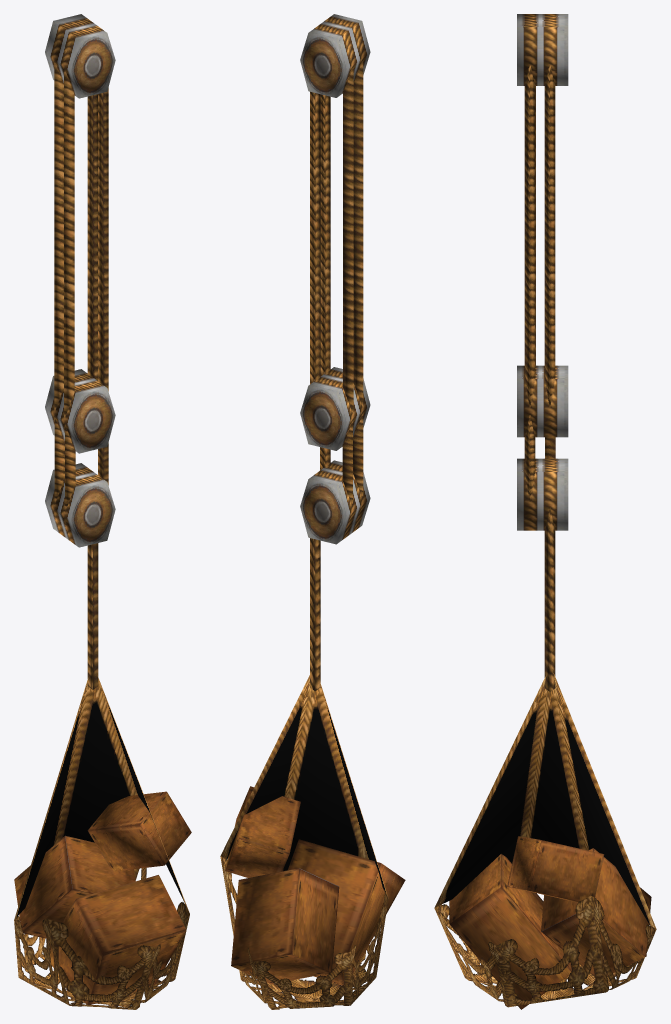
Rendered from deadminecargonethang.obj.
3 renders of one model, left to right at view 1: azimuth 30°, elevation 25°; view 2: azimuth 150°, elevation 25°; view 3: azimuth 270°, elevation 25°, orthographic.
Parts seen in each view (by area): view 1: Geoset0, Geoset1; view 2: Geoset0, Geoset1; view 3: Geoset0, Geoset1.
Boxes of the visible parts, box(x1,y1,x2,y2) form: Geoset0: box(14, 14, 191, 1009); Geoset1: box(14, 677, 189, 919); Geoset0: box(220, 14, 405, 1009); Geoset1: box(220, 672, 387, 896); Geoset0: box(434, 14, 656, 1009); Geoset1: box(434, 673, 656, 928).
Bounding box in the file's own units: 2.34 × 14.75 × 3.06.
2 materials, 2 textured.
